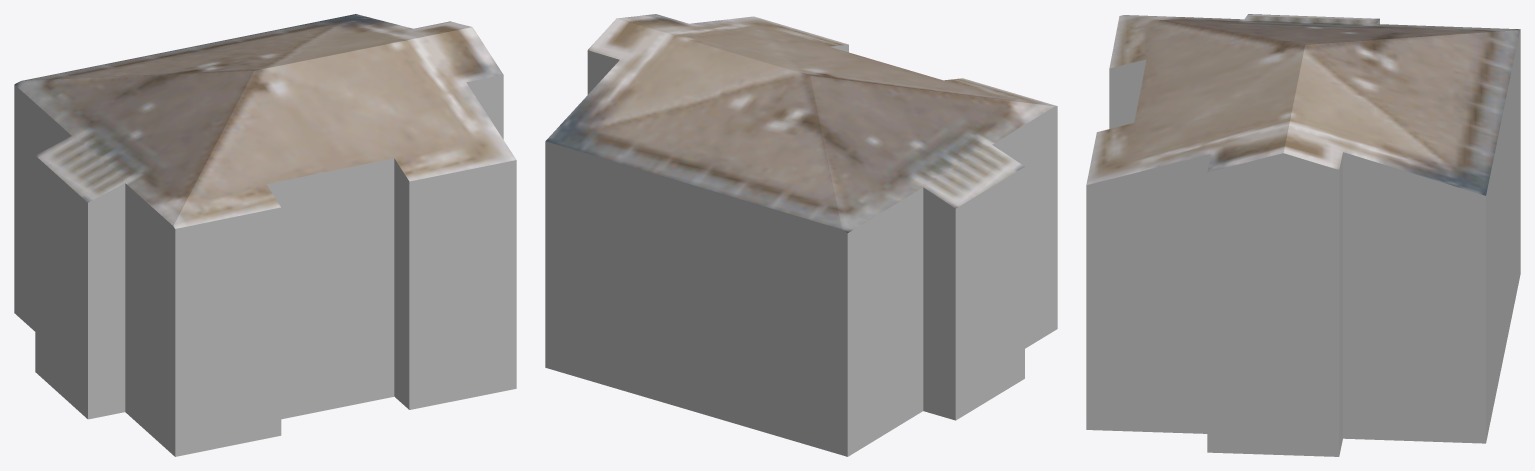
File: DEBW_0010007Tvl5.gltf
3 renders of one model, left to right at view 1: azimuth 30°, elevation 25°; view 2: azimuth 150°, elevation 25°; view 3: azimuth 270°, elevation 25°, orthographic. The views are drawn at different scales.
Visible parts, largest first — view 1: Z_UP; view 2: Z_UP; view 3: Z_UP.
Boxes of the visible parts, box(x1,y1,x2,y2) form: Z_UP: box(14, 14, 516, 456); Z_UP: box(545, 14, 1057, 456); Z_UP: box(1086, 14, 1520, 456).
Bounding box in the file's own units: 19.92 × 13.28 × 17.31.
2 materials, 1 textured.
